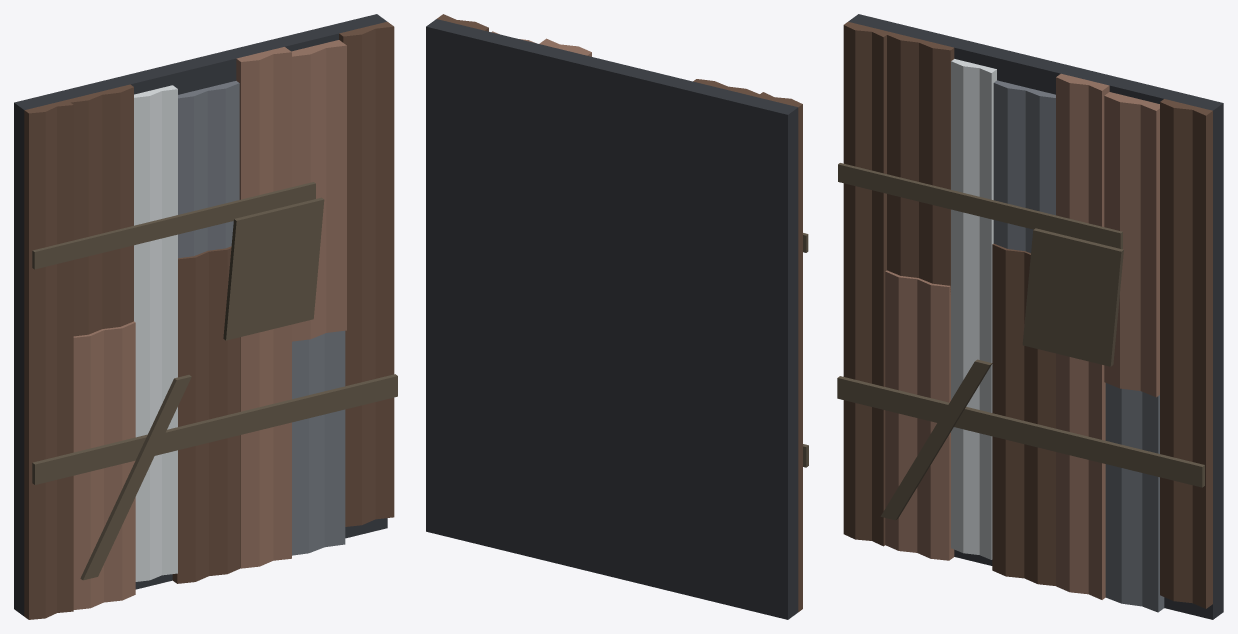
The model's file is mid-w1.fbx.
3 views of the same model, side by side, from view 1: azimuth 30°, elevation 25°; view 2: azimuth 150°, elevation 25°; view 3: azimuth 330°, elevation 25° (orthographic).
Visible parts, largest first — view 1: a2014_mid-w1; view 2: a2014_mid-w1; view 3: a2014_mid-w1.
Part boxes in pixels (<box>): a2014_mid-w1: <box>14,14,397,619</box>; a2014_mid-w1: <box>426,14,808,619</box>; a2014_mid-w1: <box>837,14,1223,619</box>.
Bounding box in the file's own units: 2.4 × 3.2 × 0.28.
